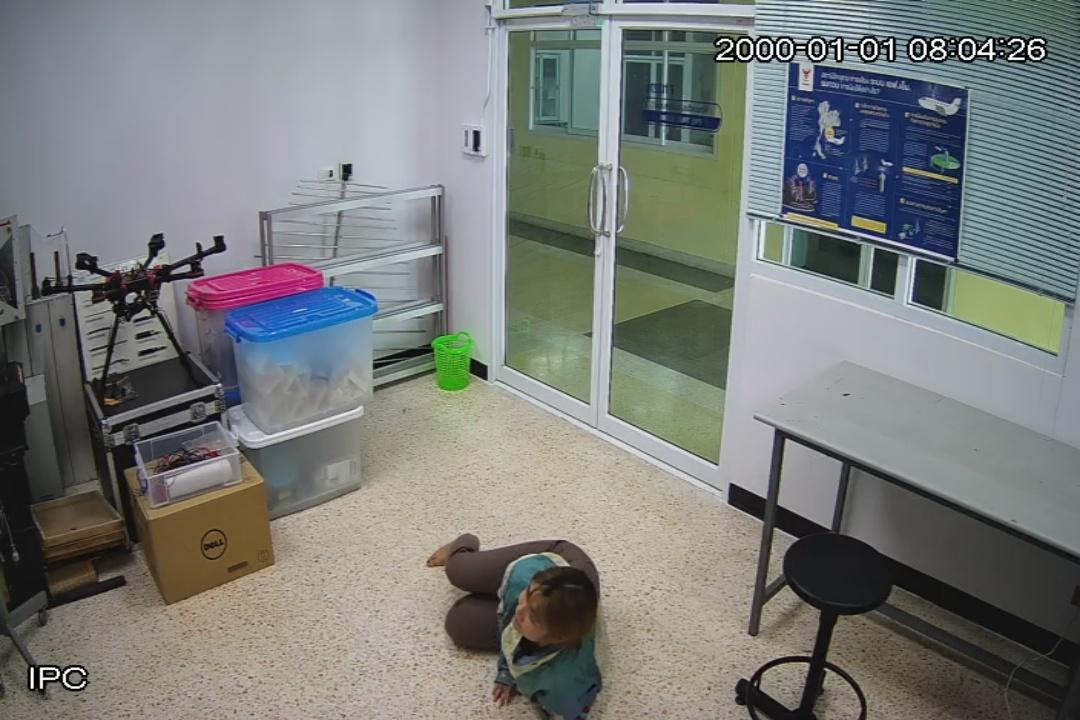fall: (433, 534, 609, 720)
